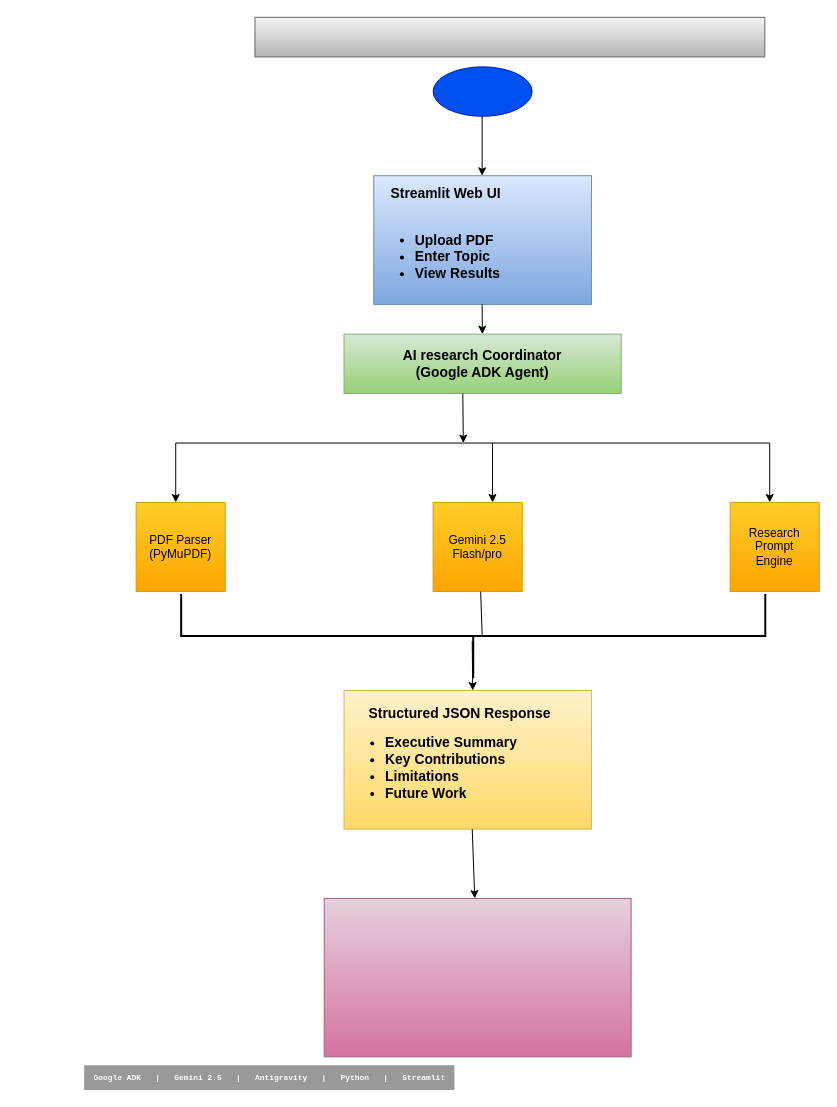
This 837x1107 diagram has some shape labels left out. The centre of each missing label's shape, as x and y in pixels:
Streamlit Output Summary Contributions Limitations Statistics Download Report: point (477, 977)
System Architecture - AI Research Assistant: point (509, 36)
User: point (482, 91)
